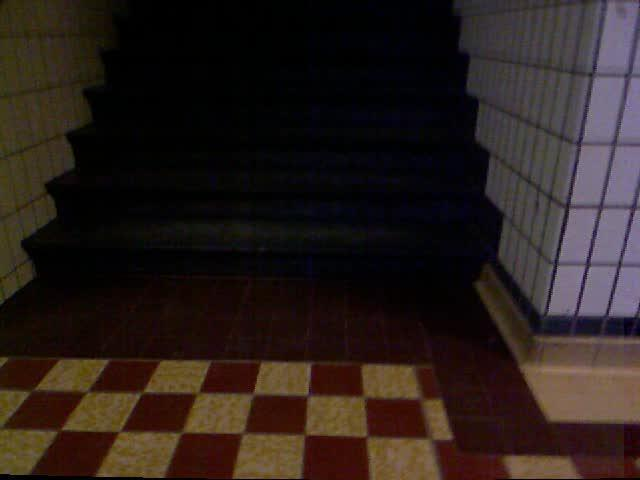Escaleras: (18, 0, 492, 302)
